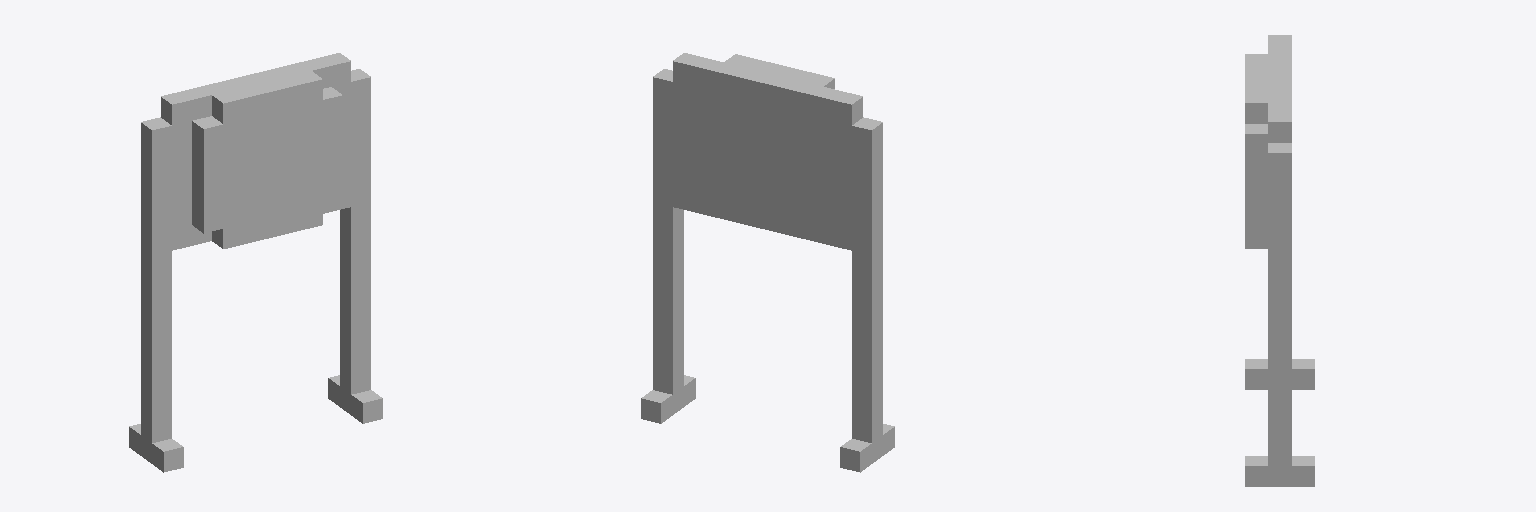
File: Obstacle 2.obj
The picture shows the model from 3 angles: view 1: azimuth 30°, elevation 25°; view 2: azimuth 150°, elevation 25°; view 3: azimuth 270°, elevation 25°; orthographic projection.
Bounding box in the file's own units: 11 × 17 × 3.